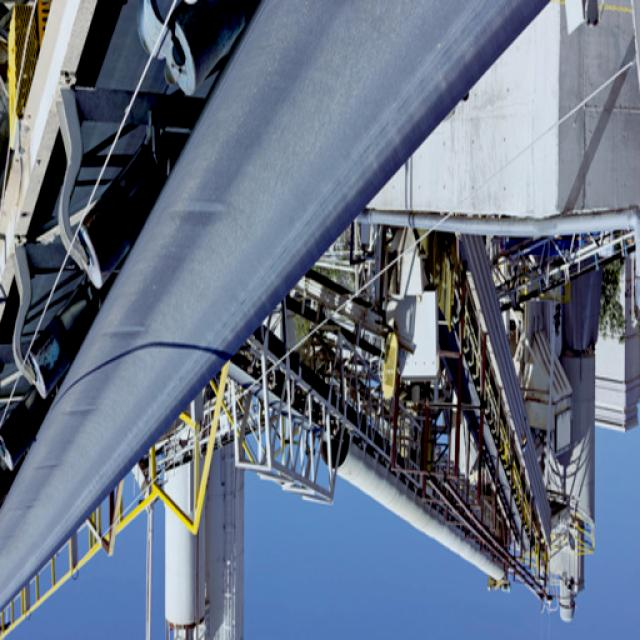conveyor: (0, 0, 558, 615)
